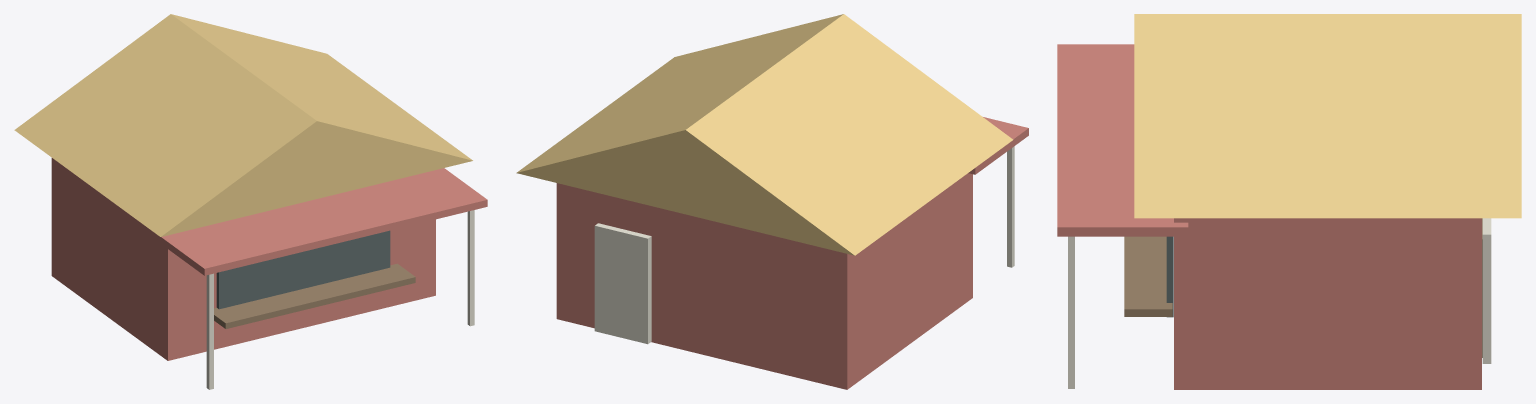
3 views of the same model, side by side, from view 1: azimuth 30°, elevation 25°; view 2: azimuth 150°, elevation 25°; view 3: azimuth 270°, elevation 25° (orthographic). The views are drawn at different scales.
Size of the model in its own units: 8.4 by 5.6 by 8.15.
